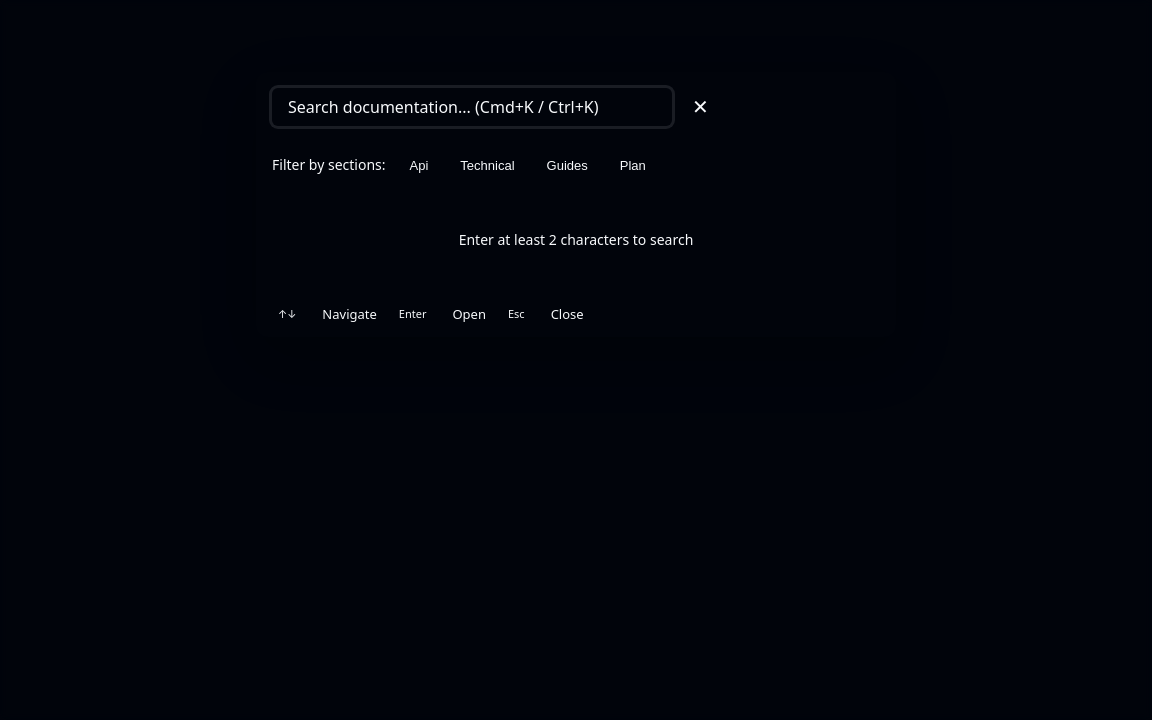
Scenario: SearchModal › should display search results after typing
Type "authentication" into the field with placeholder "Search documentation... (Cmd+K / Ctrl+K)" at point(472, 107), box top-left (272, 88), bottom-right (672, 126)
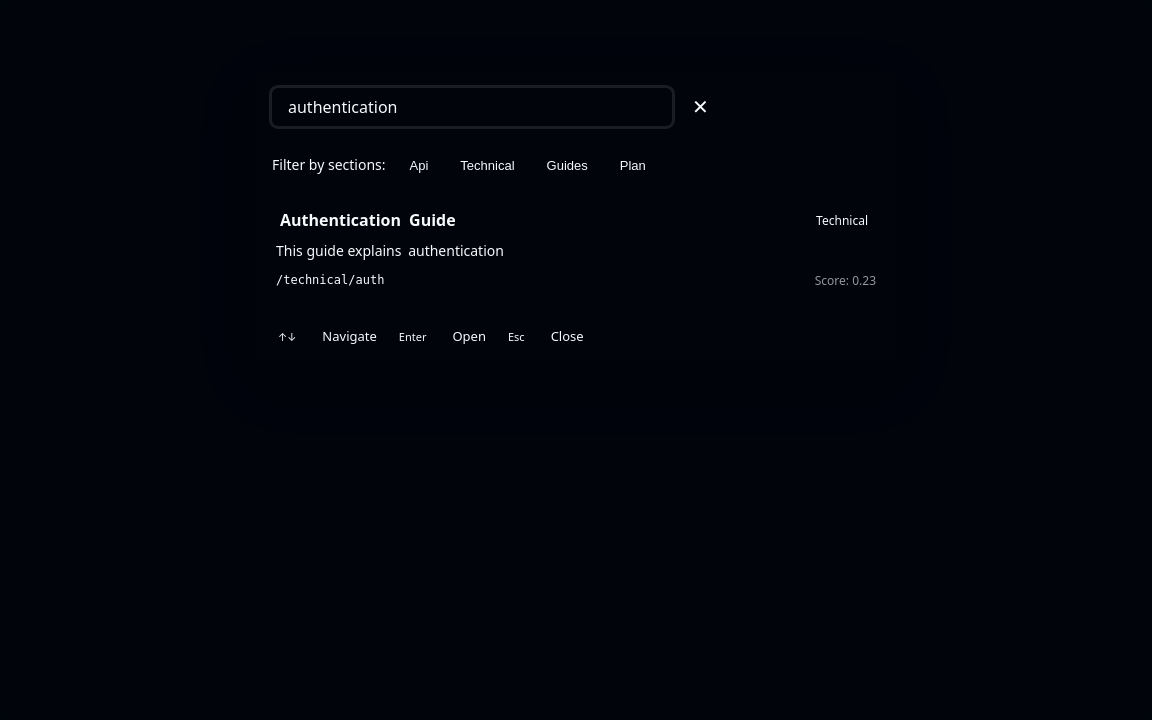
Expected: the button "guides" is shown, top-left (534, 154), bottom-right (600, 177)
Now the text "Authentication" is shown, box top-left (276, 207), bottom-right (405, 233)
